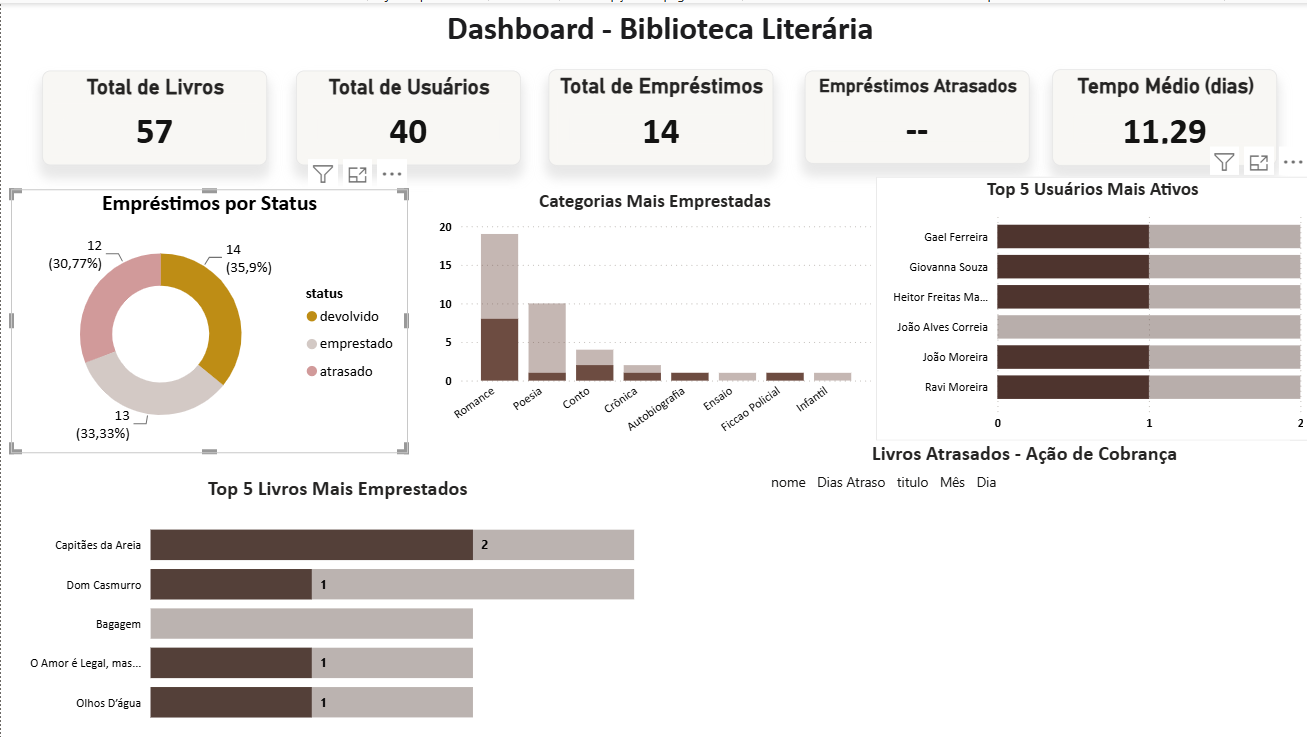

The dashboard page shown, as its layout file describes it:
{"tool":"powerbi","page":{"name":"Página 1","canvas":[1280,720],"ordinal":0},"visuals":[{"type":"textbox","box":[10,0,1270.3,53],"z":0},{"type":"cardVisual","title":"Total de Livros","fields":{"Data":["CountNonNull(public livros.id)"]},"box":[40,65.7,220,92.9],"z":1000},{"type":"cardVisual","title":"Total de Usuários","fields":{"Data":["CountNonNull(public usuarios.id)"]},"box":[288.6,65.7,220,92.9],"z":2000},{"type":"cardVisual","title":"Total de Empréstimos","fields":{"Data":["CountNonNull(public emprestimos.id)"]},"box":[535.7,64.3,220,94.3],"z":3000},{"type":"cardVisual","title":"Empréstimos Atrasados","fields":{"Data":["CountNonNull(public emprestimos.id)"]},"box":[785.7,65.7,220,91.4],"z":4000},{"type":"cardVisual","title":"Tempo Médio (dias)","fields":{"Data":["public emprestimos.Media Dias"]},"box":[1028.6,64.3,220,94.3],"z":5000},{"type":"donutChart","title":"Empréstimos por Status","fields":{"Category":["public emprestimos.status"],"Y":["CountNonNull(public emprestimos.id)"]},"box":[10,181.7,388.3,258.3],"z":6000},{"type":"clusteredBarChart","title":"Top 5 Livros Mais Emprestados","fields":{"Category":["public livros.titulo"],"Y":["CountNonNull(public emprestimos.id)"]},"box":[20,461.7,620,258.3],"z":7000},{"type":"clusteredColumnChart","title":"Categorias Mais Emprestadas","fields":{"Category":["public categorias.nome_categoria"],"Y":["CountNonNull(public emprestimos.id)"]},"box":[423.3,181.7,433.3,258.3],"z":8000},{"type":"clusteredBarChart","title":"Top 5 Usuários Mais Ativos","fields":{"Category":["public usuarios.nome"],"Y":["CountNonNull(public emprestimos.id)"]},"box":[856,170,424.3,258],"z":9000},{"type":"tableEx","title":"Livros Atrasados - Ação de Cobrança","fields":{"Values":["public usuarios.nome","public emprestimos.Dias Atraso","public livros.titulo","public emprestimos.data_emprestimo.Variation.Hierarquia de datas.Mês","public emprestimos.data_emprestimo.Variation.Hierarquia de datas.Dia"]},"box":[741.7,428.3,518.3,291.7],"z":10000}]}

Visuals, with their boxes in screenshot pixels (x1, y1, x2, y2), scaled from the page's 1280x720 canvas onto the 1307x737 screenshot:
textbox: x1=10, y1=0, x2=1306, y2=54
"Total de Livros" cardVisual: x1=41, y1=67, x2=265, y2=162
"Total de Usuários" cardVisual: x1=295, y1=67, x2=519, y2=162
"Total de Empréstimos" cardVisual: x1=547, y1=66, x2=772, y2=162
"Empréstimos Atrasados" cardVisual: x1=802, y1=67, x2=1027, y2=161
"Tempo Médio (dias)" cardVisual: x1=1050, y1=66, x2=1275, y2=162
"Empréstimos por Status" donutChart: x1=10, y1=186, x2=407, y2=450
"Top 5 Livros Mais Emprestados" clusteredBarChart: x1=20, y1=473, x2=654, y2=736
"Categorias Mais Emprestadas" clusteredColumnChart: x1=432, y1=186, x2=875, y2=450
"Top 5 Usuários Mais Ativos" clusteredBarChart: x1=874, y1=174, x2=1306, y2=438
"Livros Atrasados - Ação de Cobrança" tableEx: x1=757, y1=438, x2=1287, y2=736
